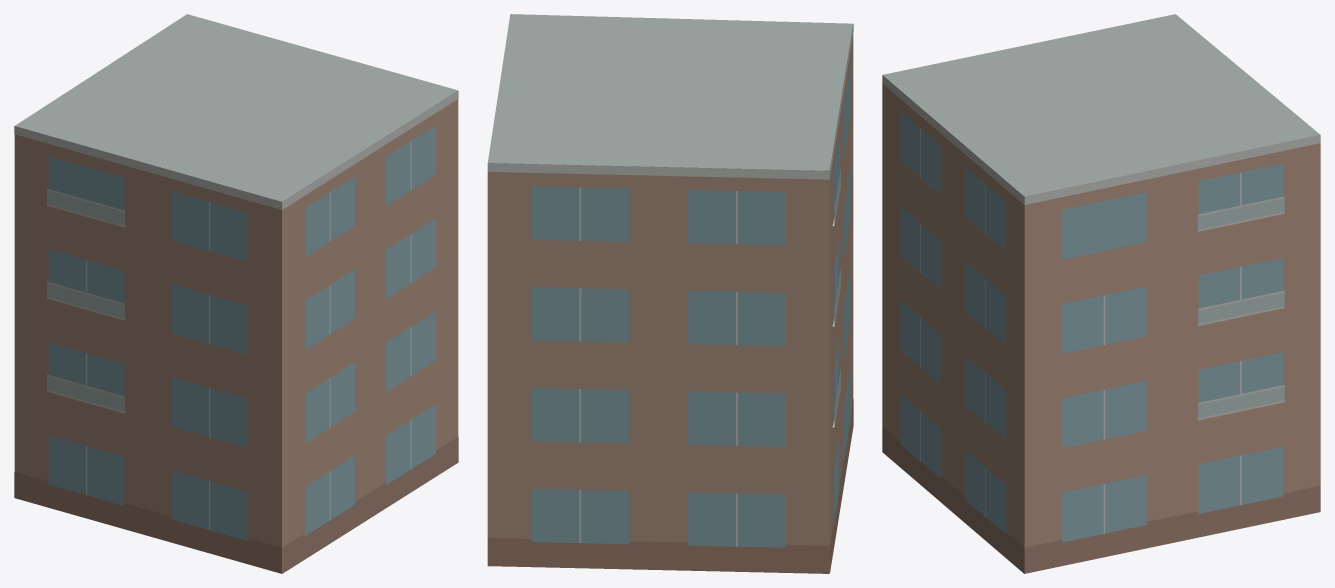
Rendered from survey-upis-33044054.glb.
The picture shows the model from 3 angles, left to right: view 1: azimuth 30°, elevation 25°; view 2: azimuth 150°, elevation 25°; view 3: azimuth 270°, elevation 25°; orthographic projection. The views are drawn at different scales.
Parts seen in each view (by area): view 1: survey-upis-33044054.tmp; view 2: survey-upis-33044054.tmp; view 3: survey-upis-33044054.tmp.
Boxes of the visible parts, x1=… form: survey-upis-33044054.tmp: x1=14, y1=14, x2=458, y2=573; survey-upis-33044054.tmp: x1=487, y1=14, x2=853, y2=573; survey-upis-33044054.tmp: x1=882, y1=14, x2=1320, y2=573.
Bounding box in the file's own units: 11.49 × 11.05 × 11.65.
